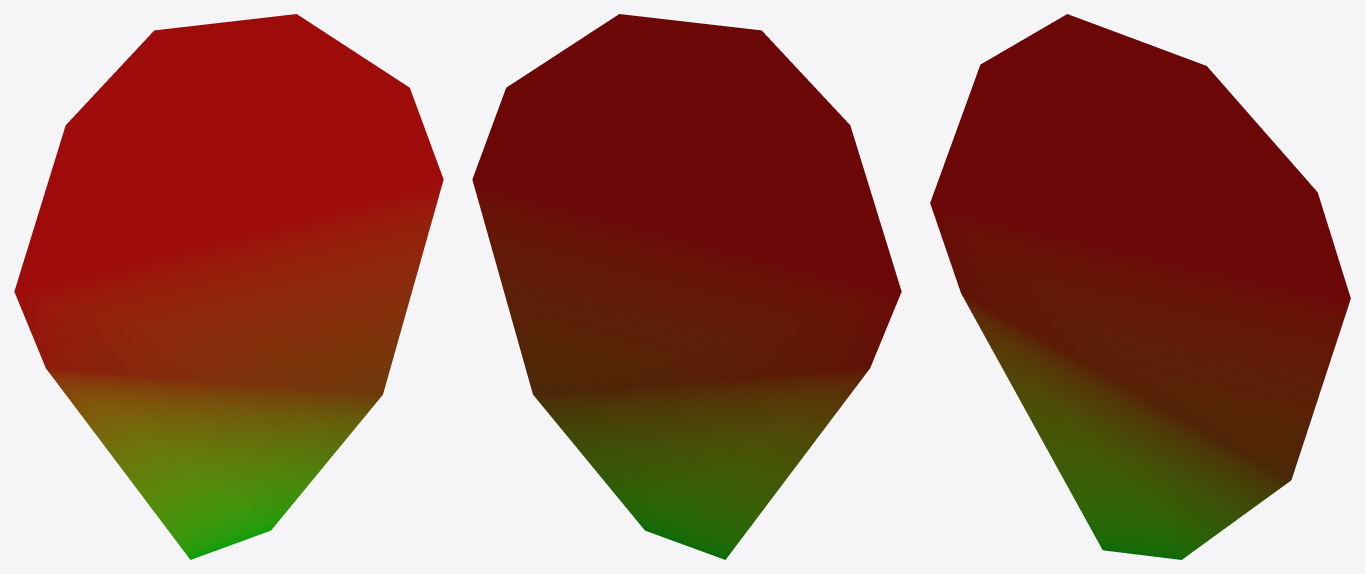
File: Butterfly Weed_LOD4_Var8.fbx
3 renders of one model, left to right at view 1: azimuth 30°, elevation 25°; view 2: azimuth 150°, elevation 25°; view 3: azimuth 330°, elevation 25°, orthographic. The views are drawn at different scales.
Parts seen in each view (by area): view 1: _h6nh_Var8_LOD4; view 2: _h6nh_Var8_LOD4; view 3: _h6nh_Var8_LOD4.
Boxes of the visible parts, x1,y1,x2,y2 form: _h6nh_Var8_LOD4: (14, 14, 443, 559); _h6nh_Var8_LOD4: (472, 14, 901, 559); _h6nh_Var8_LOD4: (930, 14, 1350, 559).
Bounding box in the file's own units: 70.62 × 84.62 × 5.09e-06.
